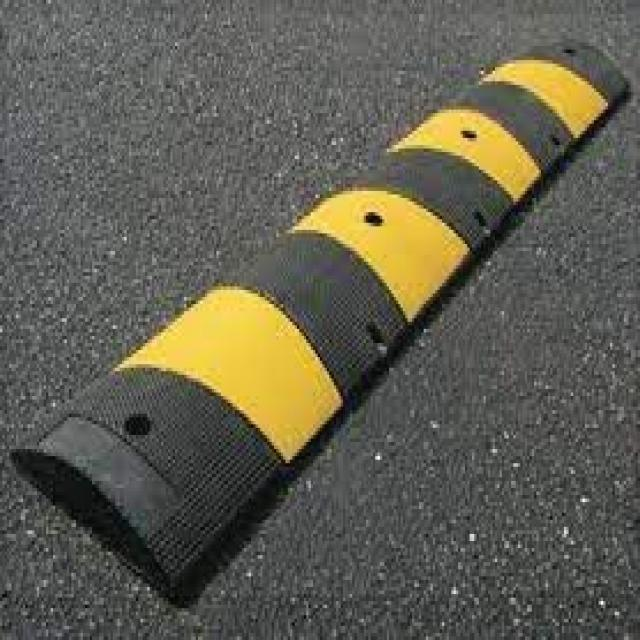speed-bump: (7, 14, 636, 596)
